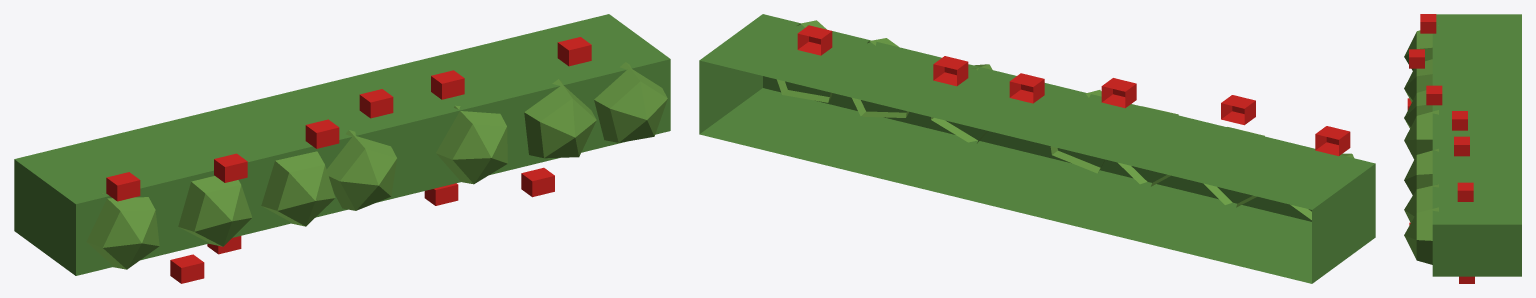
3 views of the same model, side by side, from view 1: azimuth 30°, elevation 25°; view 2: azimuth 150°, elevation 25°; view 3: azimuth 270°, elevation 25° (orthographic). The views are drawn at different scales.
Parts seen in each view (by area): view 1: fence_5; view 2: fence_5; view 3: fence_5.
Boxes of the visible parts, box(x1,y1,x2,y2) form: fence_5: box(14, 14, 670, 283); fence_5: box(699, 14, 1375, 283); fence_5: box(1404, 14, 1521, 283).
Size of the model in its own units: 15.6 by 2.64 by 3.7.
